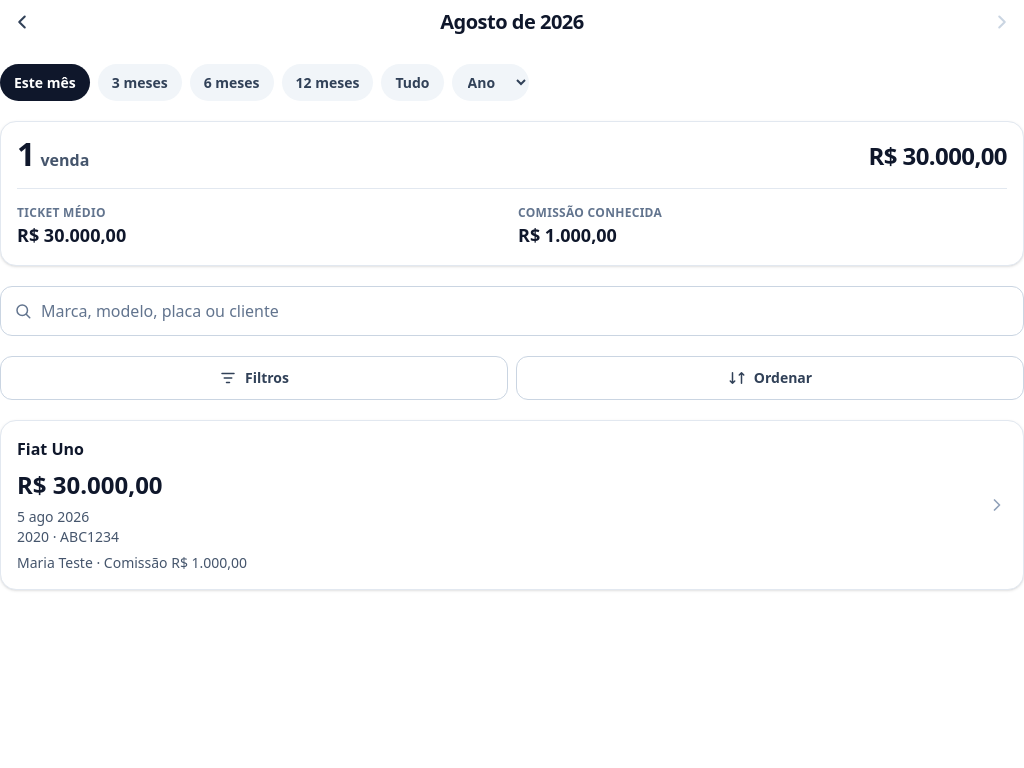
Test: SoldVehiclesView › navegação de mês › jumps to a specific month/year via the month picker, including changing year
The image size is (1024, 768).
Expected: the text "Fiat Uno" is shown, [17,437,84,461]
Click the button "Agosto de 2026": x=512, y=22 [52,4,972,40]
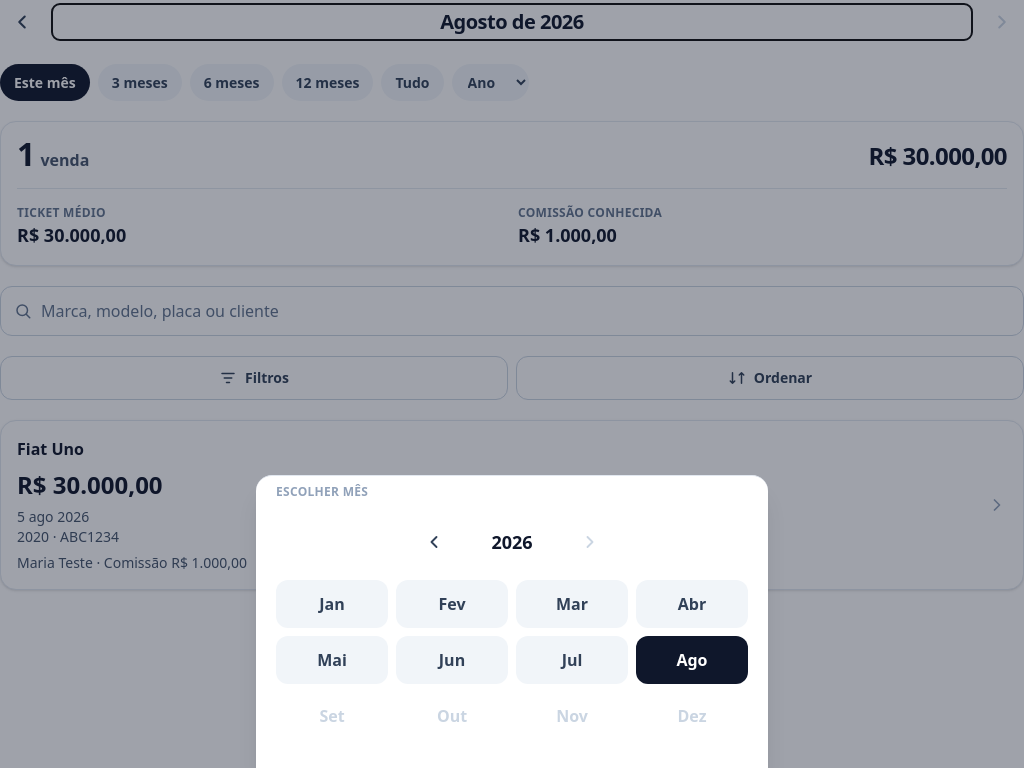
Click the button named "Ano anterior": x=434, y=542 [412,520,456,564]
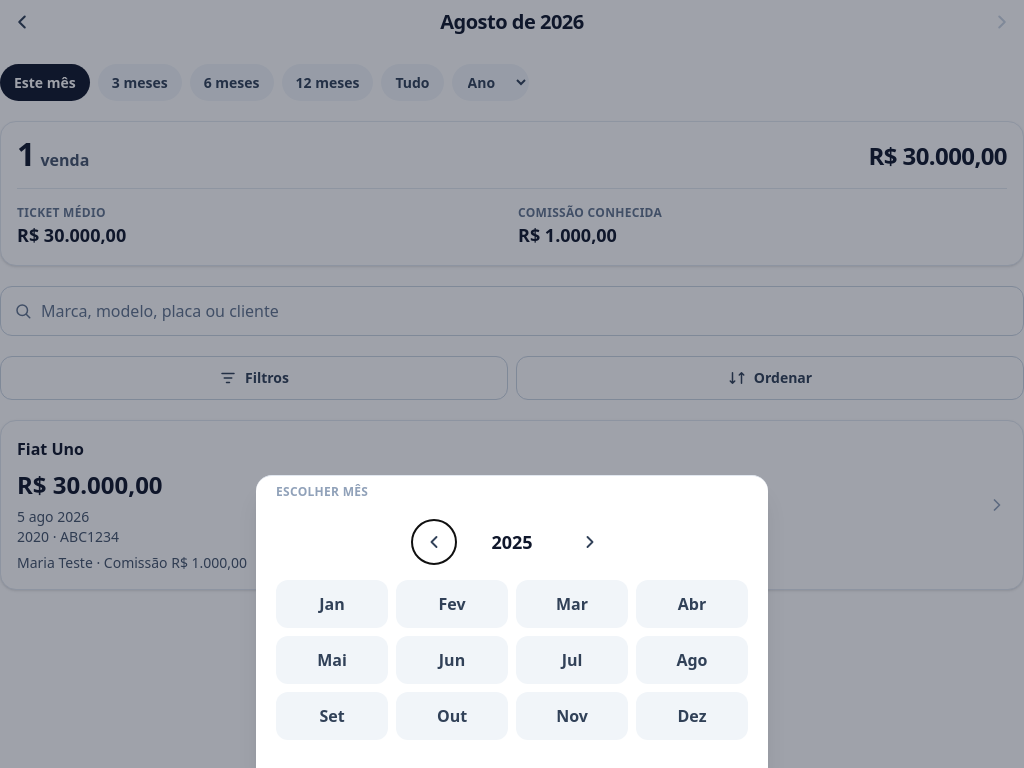
Click the button "Mar": x=572, y=604 [516,580,628,628]
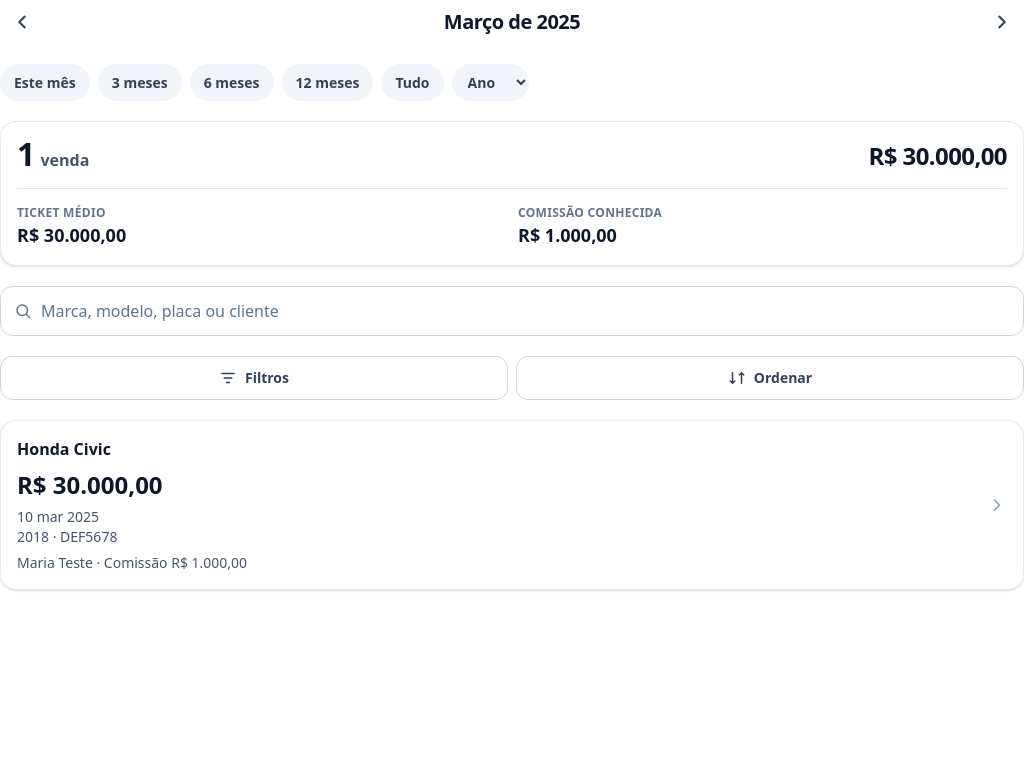
Expected: the text "Março de 2025" is shown, [444,8,580,35]
Expected: the text "Honda Civic" is shown, [17,437,111,461]
Expected: the button "Fiat Uno" is gone
